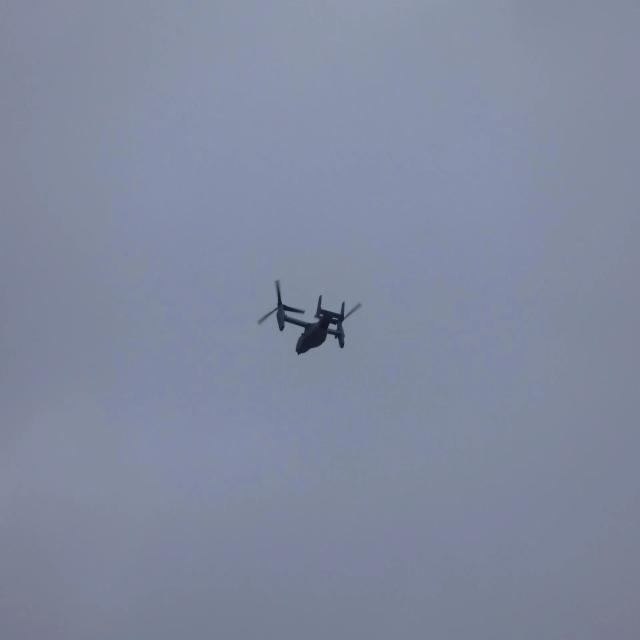MIL_Plane: (257, 279, 362, 356)
